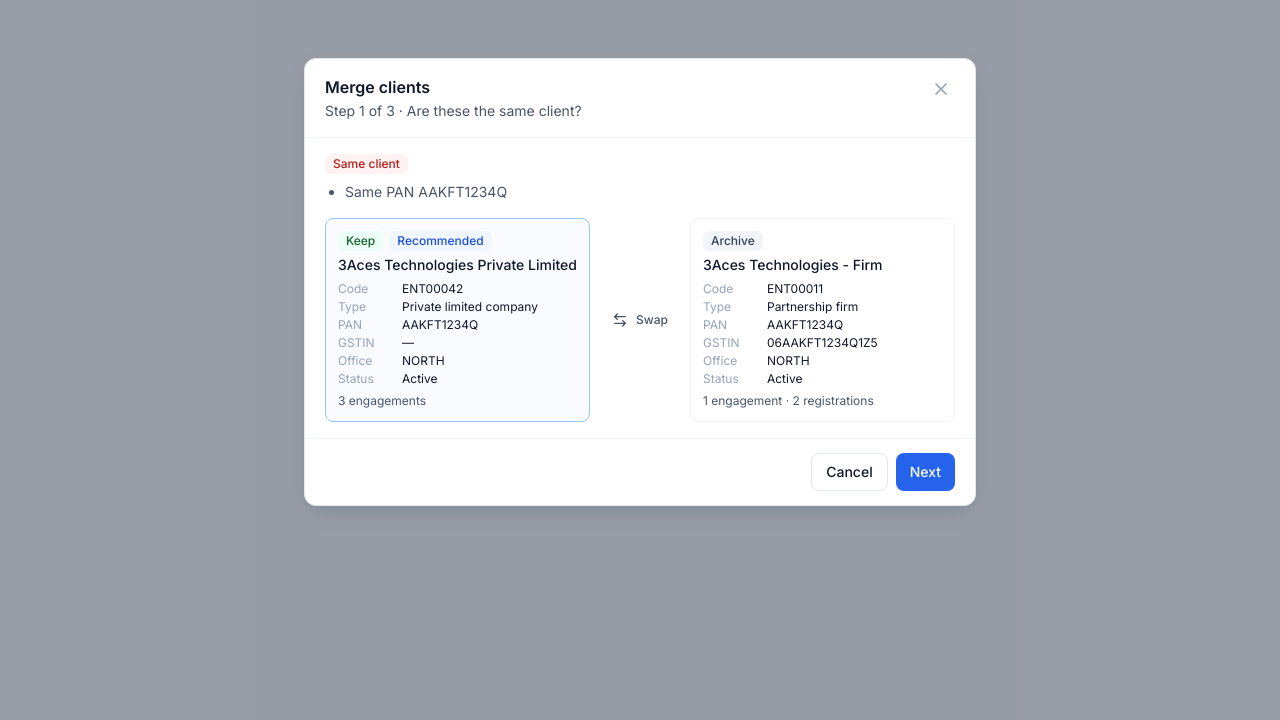
MergeClientsModal › swaps which client is kept by asking for the preview the other way round
The width and height of the screenshot is (1280, 720).
Expected: the element named "Client to keep" is shown, [325,218,590,422]
What coordinates should you click on to do the following:
click the button with aria-label "Swap which client to keep"
I would click on:
 (640, 320)
Its box is [602,306,678,334].
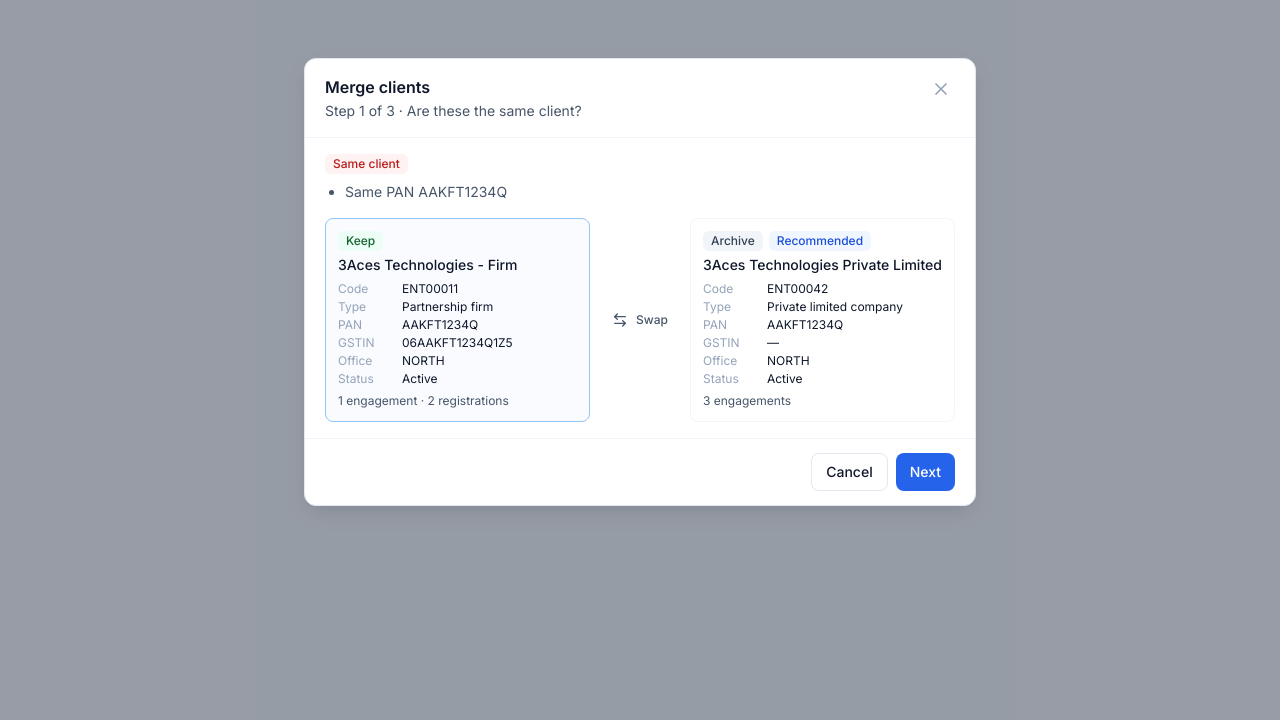
Expected: the text "3Aces Technologies - Firm" is shown, [338,256,518,273]
